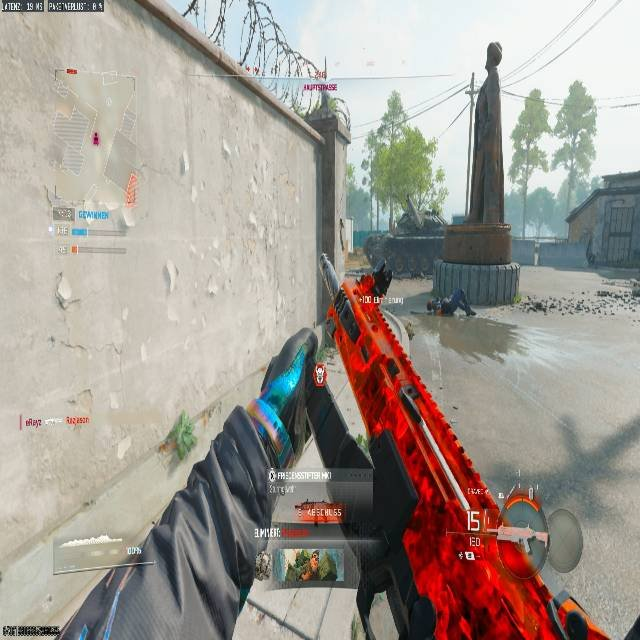player: (255, 550, 270, 580)
